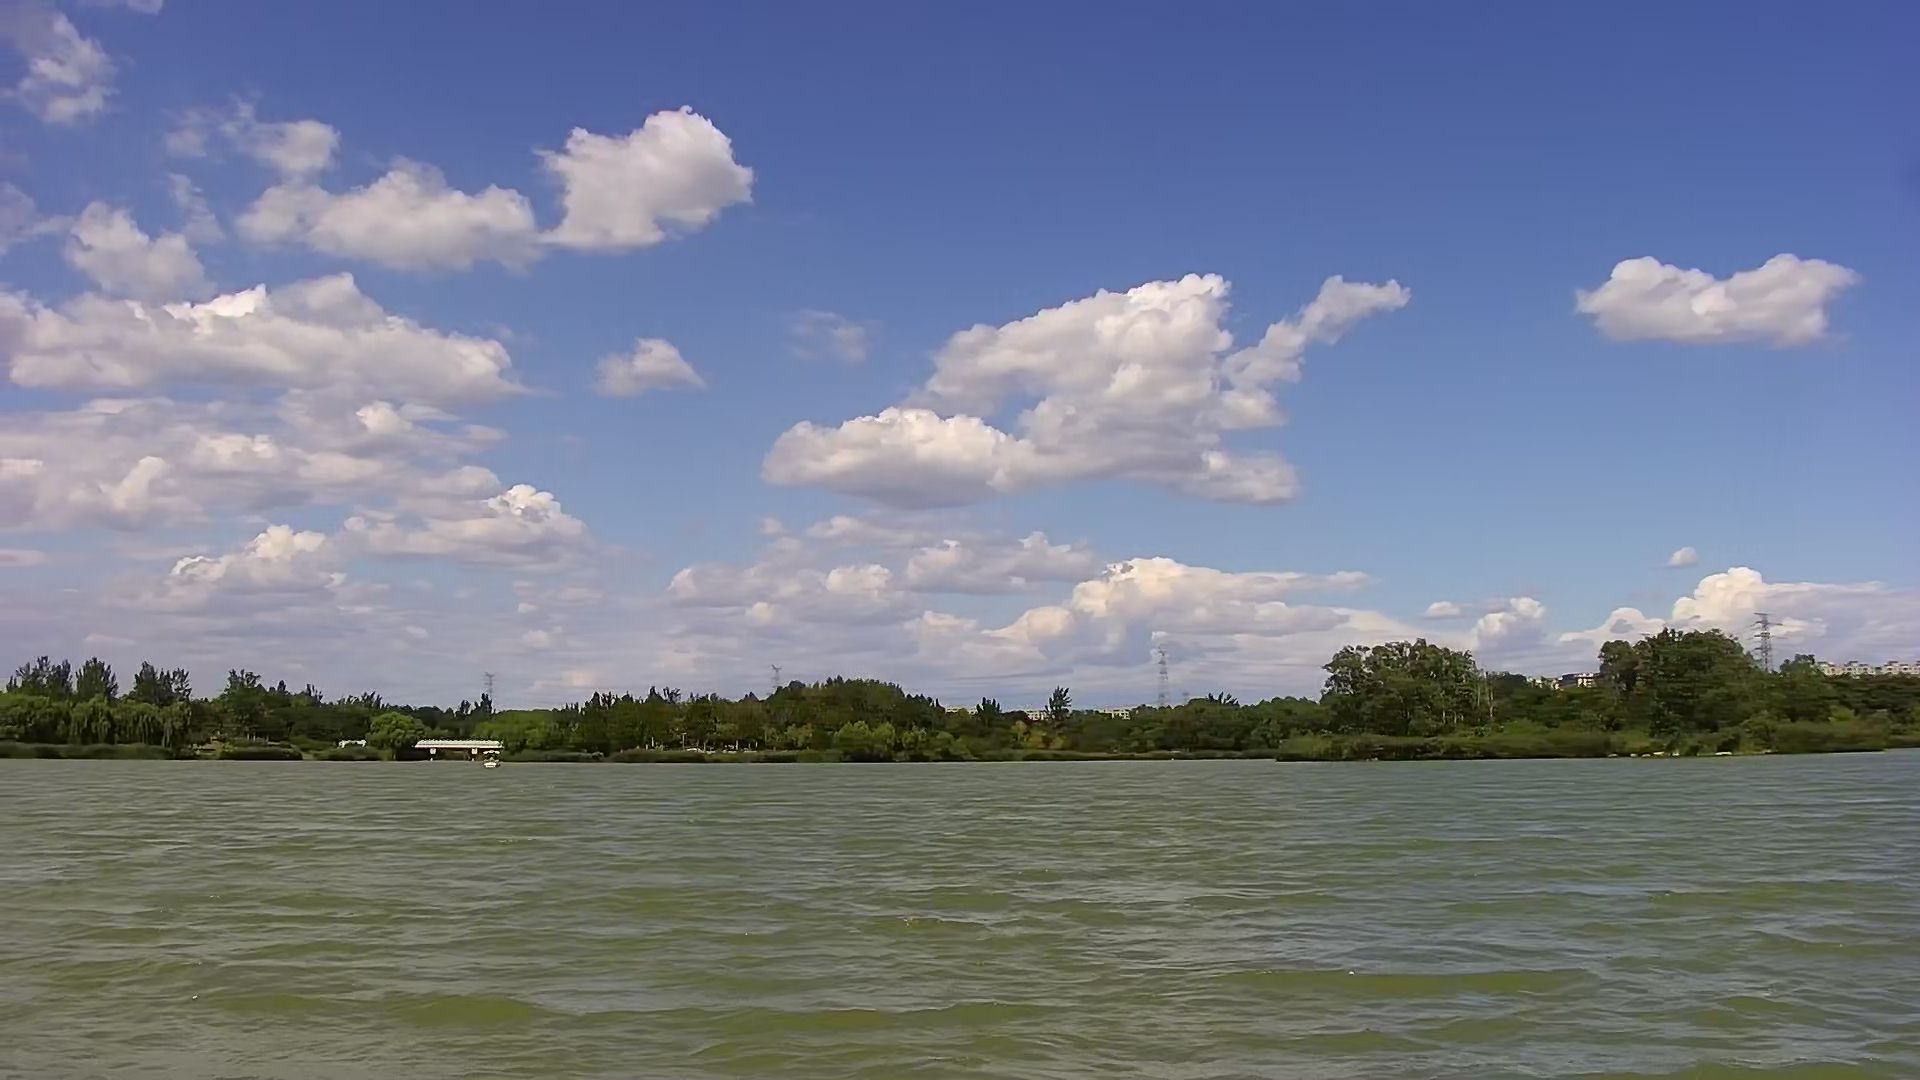bridge: (413, 728, 509, 767)
